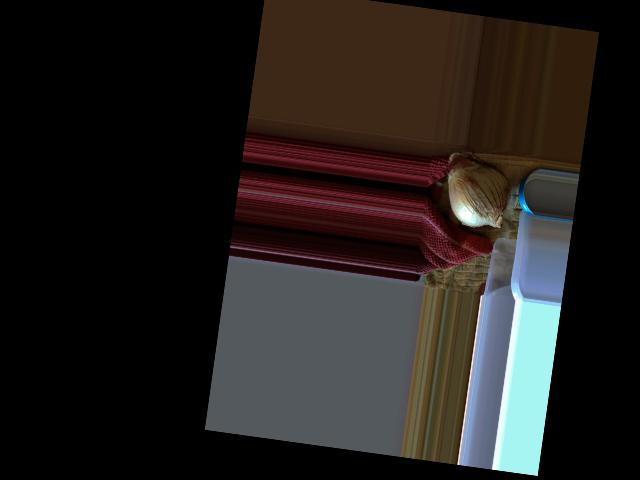onion: (439, 152, 515, 231)
